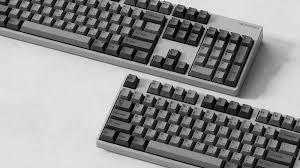keyboard: (0, 0, 263, 96), (95, 73, 299, 167)
